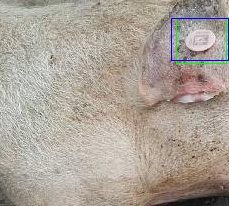text: (176, 18, 226, 63)
